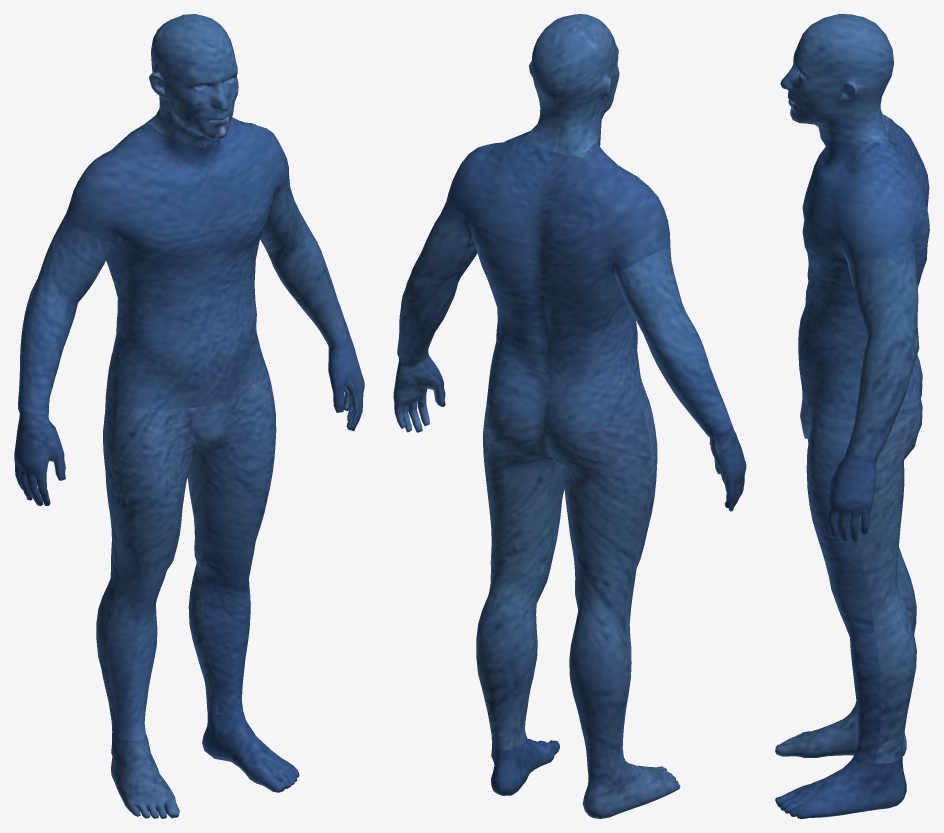
File: character-6.obj
3 views of the same model, side by side, from view 1: azimuth 30°, elevation 25°; view 2: azimuth 150°, elevation 25°; view 3: azimuth 270°, elevation 25° (orthographic).
Parts seen in each view (by area): view 1: Realistic_White_Male_Low_Poly:Realistic_White_Male_Low_Poly; view 2: Realistic_White_Male_Low_Poly:Realistic_White_Male_Low_Poly; view 3: Realistic_White_Male_Low_Poly:Realistic_White_Male_Low_Poly.
Boxes of the visible parts, box(x1,y1,x2,y2) form: Realistic_White_Male_Low_Poly:Realistic_White_Male_Low_Poly: box(14, 14, 364, 818); Realistic_White_Male_Low_Poly:Realistic_White_Male_Low_Poly: box(393, 14, 746, 818); Realistic_White_Male_Low_Poly:Realistic_White_Male_Low_Poly: box(775, 14, 929, 818).
Size of the model in its own units: 33.63 by 72.02 by 13.22.
Materials: 1 (1 with a texture image).
